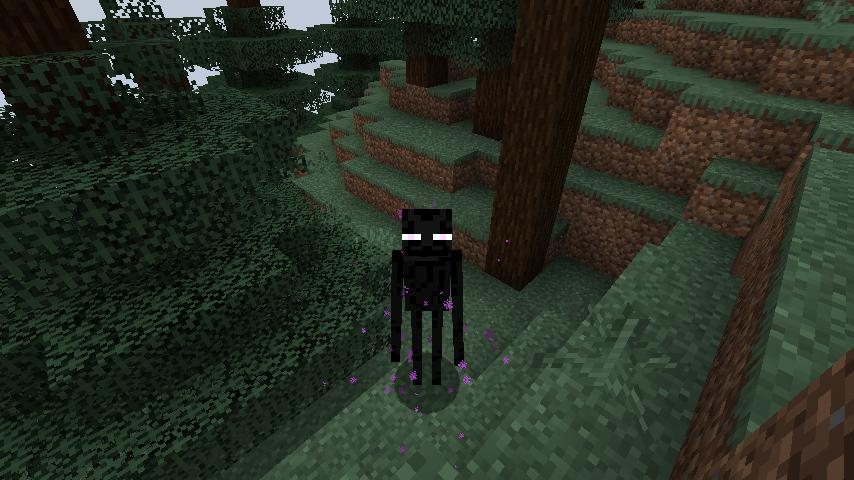enderman: (384, 207, 470, 398)
